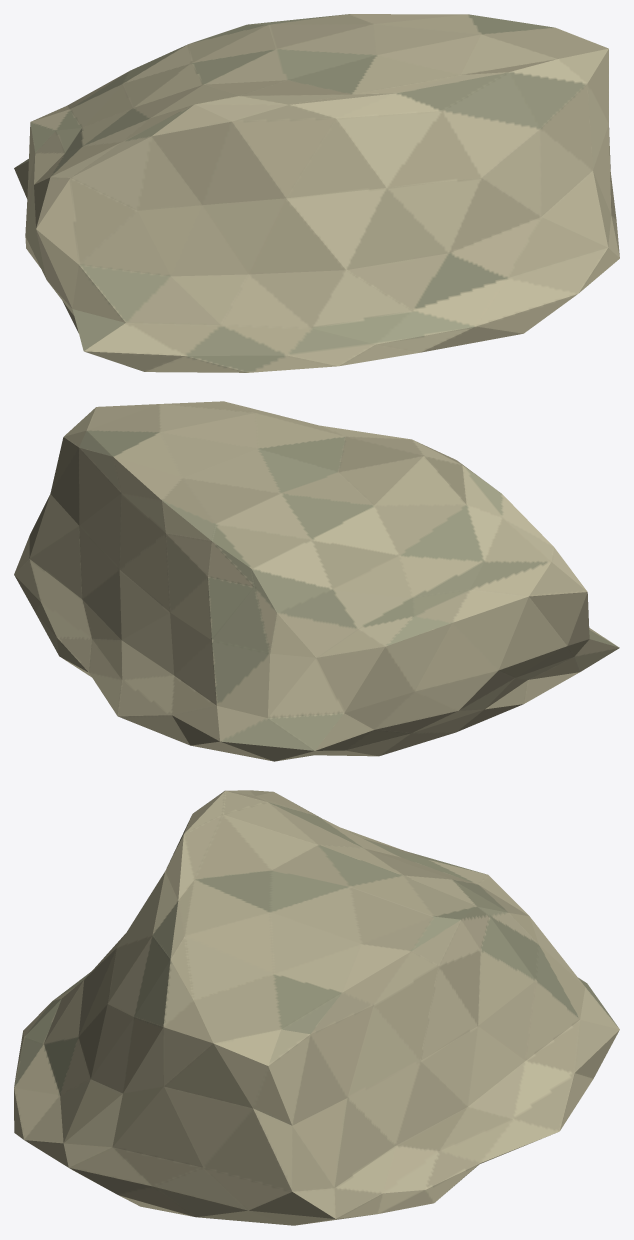
The model's file is SM_Rock_Boulder_Large.glb.
3 views of the same model, one above another, from view 1: azimuth 30°, elevation 25°; view 2: azimuth 150°, elevation 25°; view 3: azimuth 270°, elevation 25° (orthographic). The views are drawn at different scales.
Parts seen in each view (by area): view 1: SM_Rock_Boulder_Large; view 2: SM_Rock_Boulder_Large; view 3: SM_Rock_Boulder_Large.
Boxes of the visible parts, x1,y1,x2,y2 form: SM_Rock_Boulder_Large: (14, 14, 619, 372); SM_Rock_Boulder_Large: (14, 401, 619, 761); SM_Rock_Boulder_Large: (14, 790, 619, 1225).
Size of the model in its own units: 2.38 by 0.9751 by 2.
1 material, 1 textured.
